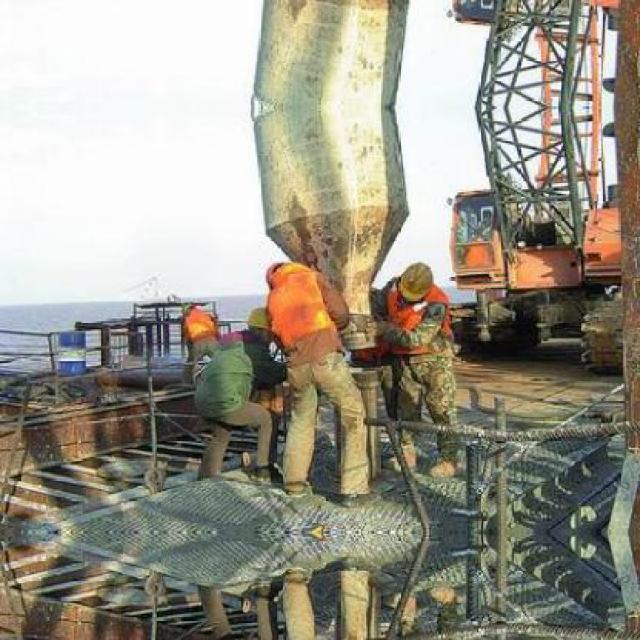helmet: (394, 257, 434, 297), (244, 304, 278, 348)
